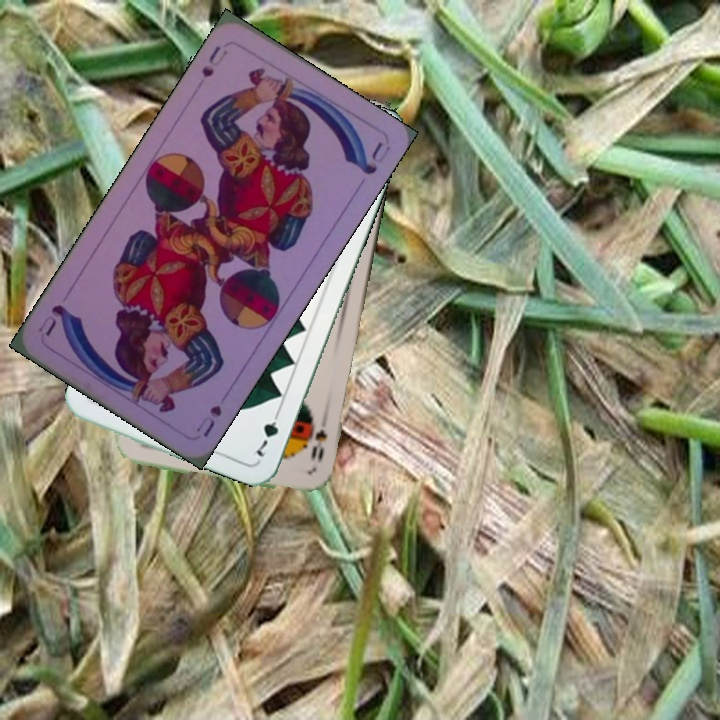G7: (252, 404, 284, 460)
SO: (307, 411, 330, 465)
SU: (197, 41, 231, 80), (192, 400, 225, 440)
